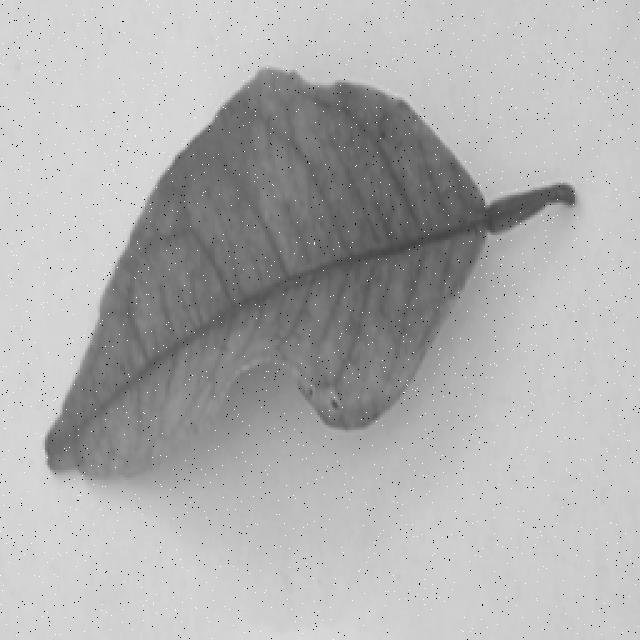greening: (21, 68, 594, 500)
